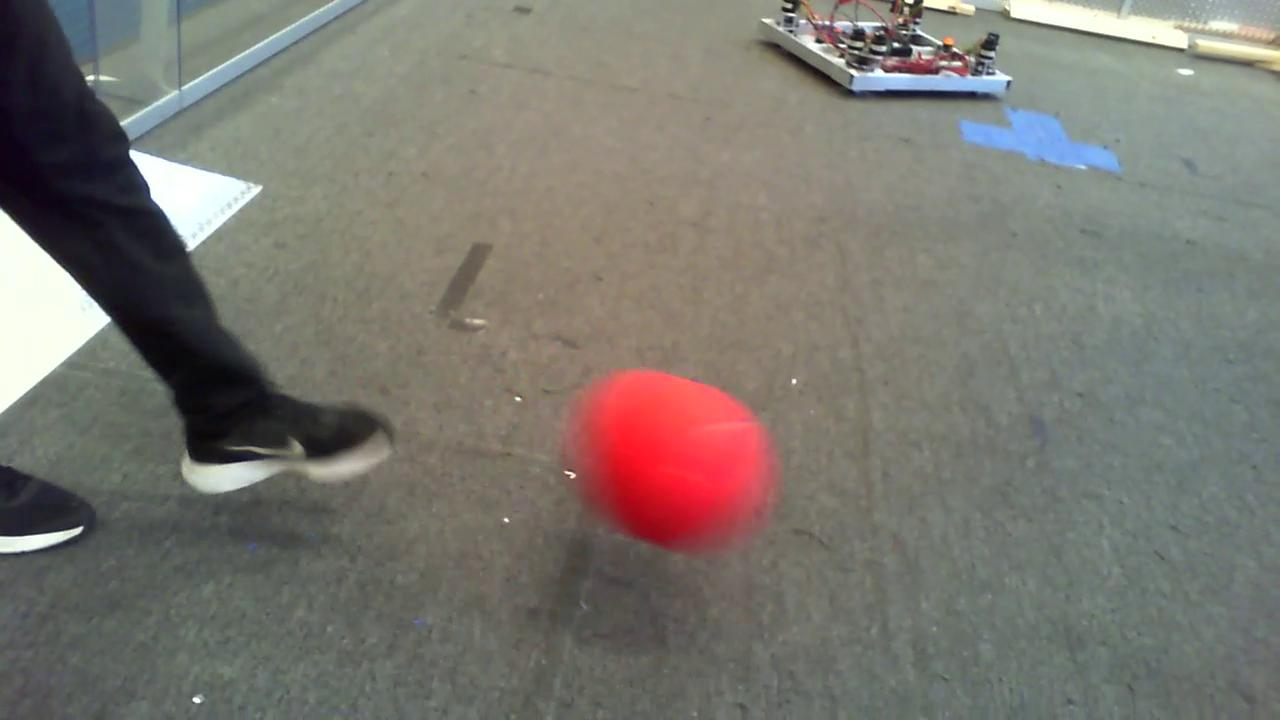Red_Ball: (550, 350, 785, 547)
